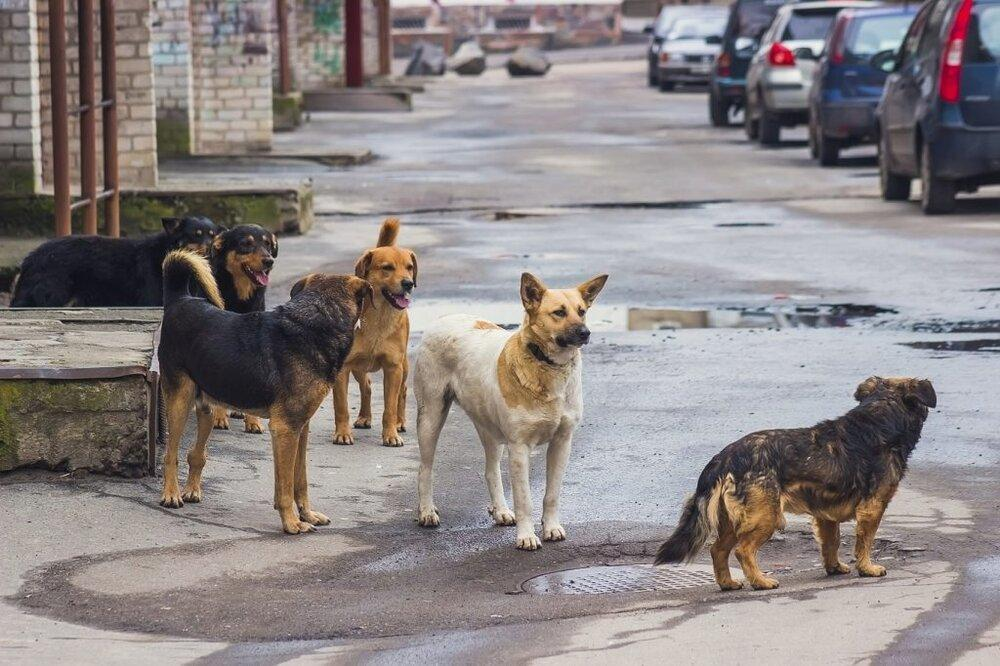normal_dogs: (141, 247, 377, 541), (655, 356, 946, 591), (413, 269, 610, 553), (3, 204, 212, 311), (326, 218, 415, 448), (191, 218, 301, 314)
